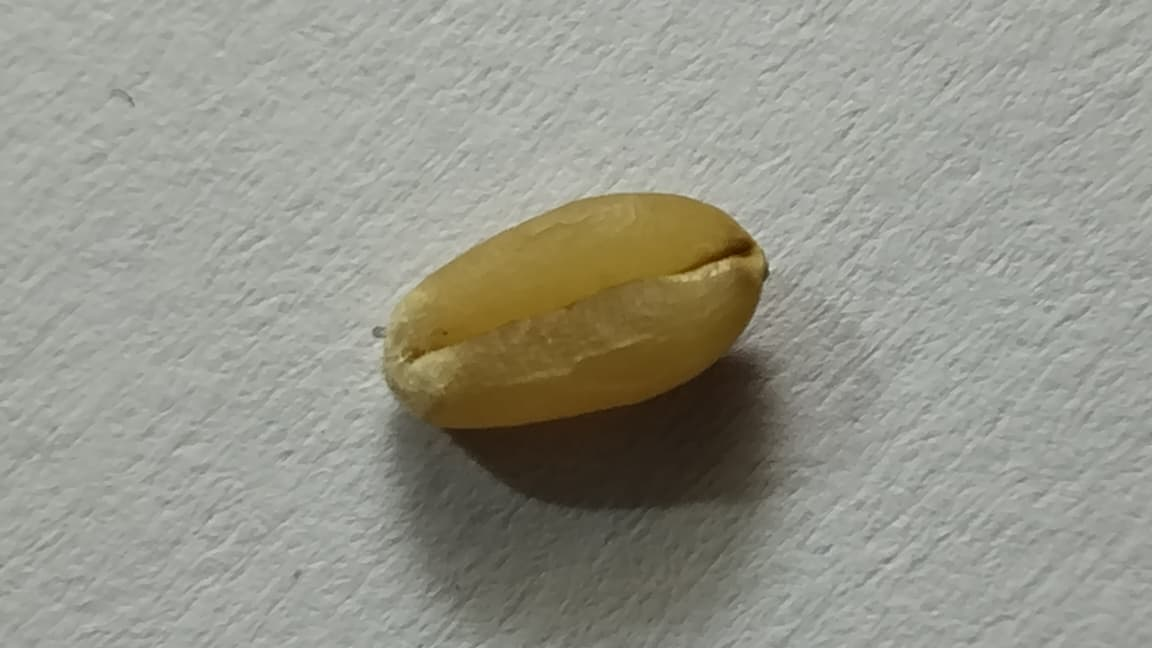healthy: (376, 193, 768, 427)
